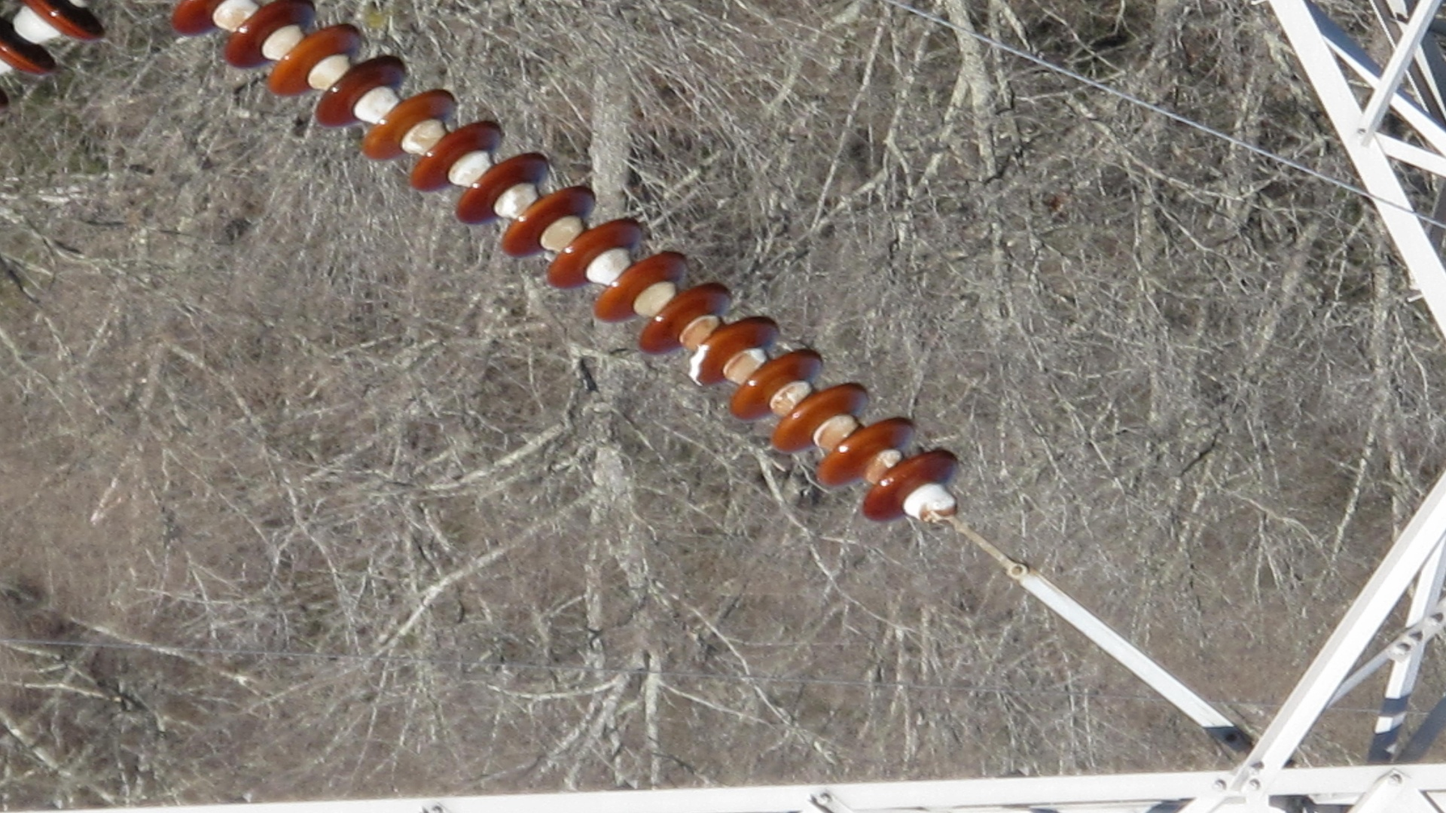insulator: (166, 1, 967, 529), (1, 1, 109, 81)
insulator_breakage: (685, 340, 713, 388)
